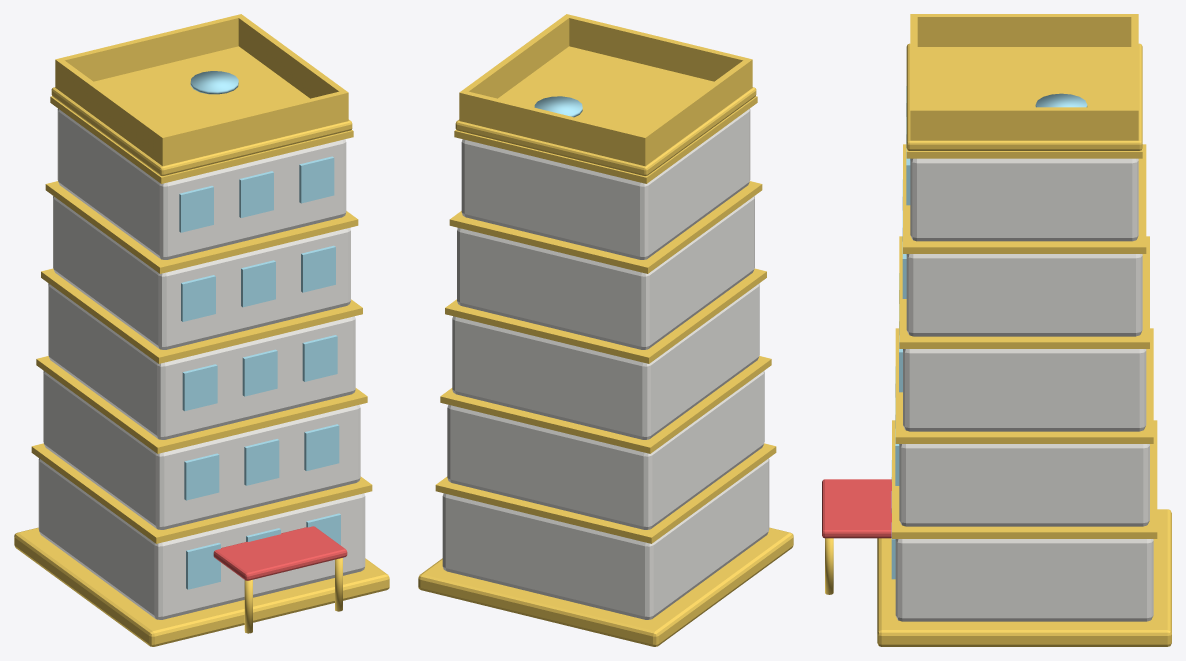
Rendered from Building_Tier3_Hotel.fbx.
3 views of the same model, side by side, from view 1: azimuth 30°, elevation 25°; view 2: azimuth 150°, elevation 25°; view 3: azimuth 270°, elevation 25° (orthographic). The views are drawn at different scales.
Parts seen in each view (by area): view 1: Building_Tier3_Hotel; view 2: Building_Tier3_Hotel; view 3: Building_Tier3_Hotel.
Boxes of the visible parts, bbox=[...] form: Building_Tier3_Hotel: bbox=[14, 14, 389, 646]; Building_Tier3_Hotel: bbox=[418, 14, 793, 646]; Building_Tier3_Hotel: bbox=[822, 14, 1171, 646].
Size of the model in its own units: 0.8 by 1.57 by 0.95.
